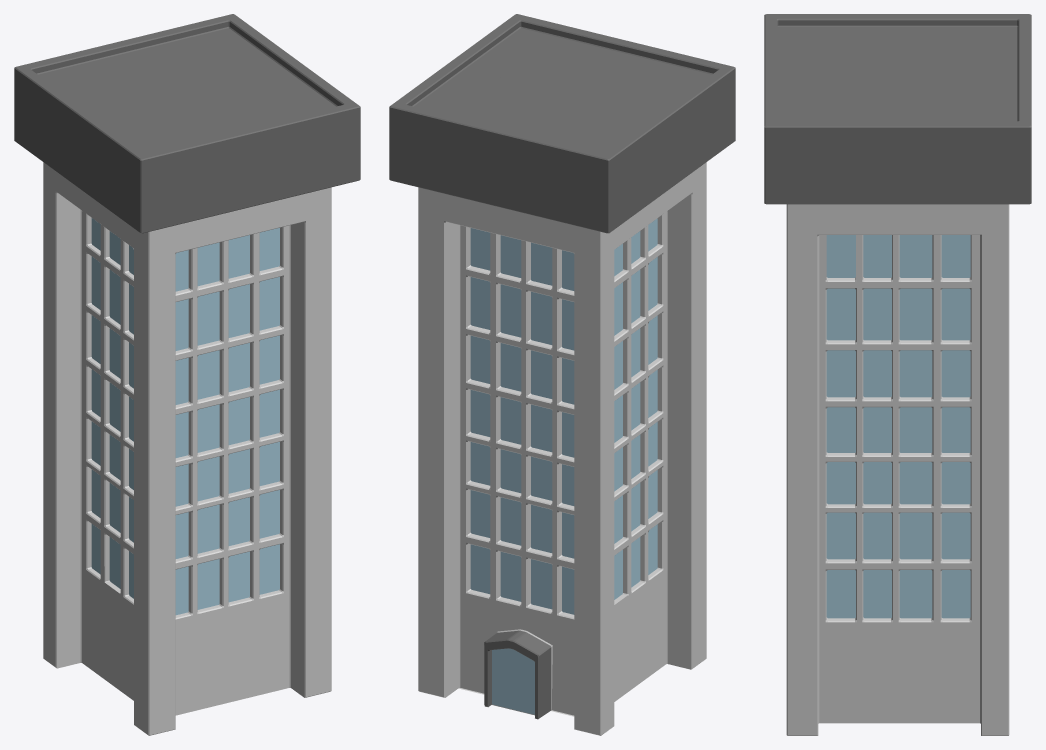
The model's file is Building_010.fbx.
3 renders of one model, left to right at view 1: azimuth 30°, elevation 25°; view 2: azimuth 150°, elevation 25°; view 3: azimuth 270°, elevation 25°, orthographic. The views are drawn at different scales.
Parts seen in each view (by area): view 1: Building_010; view 2: Building_010; view 3: Building_010.
Boxes of the visible parts, x1=… form: Building_010: x1=14, y1=14, x2=360, y2=735; Building_010: x1=389, y1=14, x2=735, y2=735; Building_010: x1=764, y1=14, x2=1031, y2=735.
Size of the model in its own units: 1791 by 4573 by 1791.
